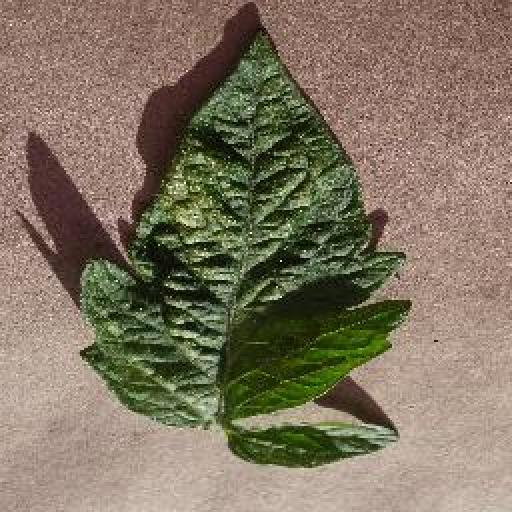Spider Mites: (79, 24, 412, 425)
